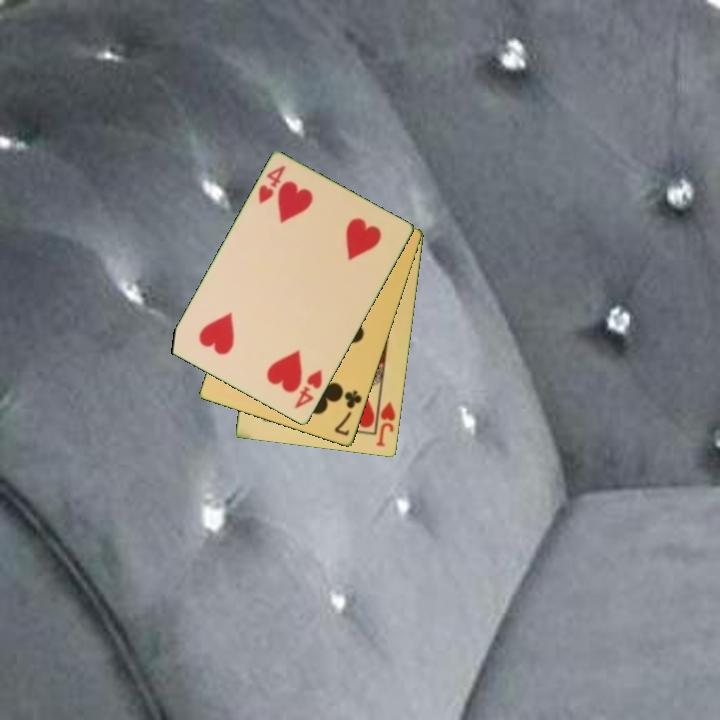4h: (291, 366, 325, 412), (255, 162, 289, 207)
7c: (331, 387, 365, 439)
Jh: (373, 398, 399, 450)
